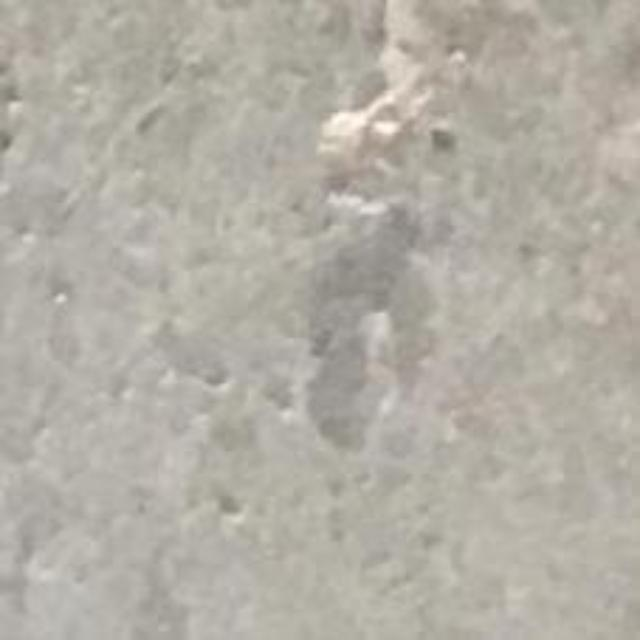peeling plaster: (305, 0, 434, 448)
